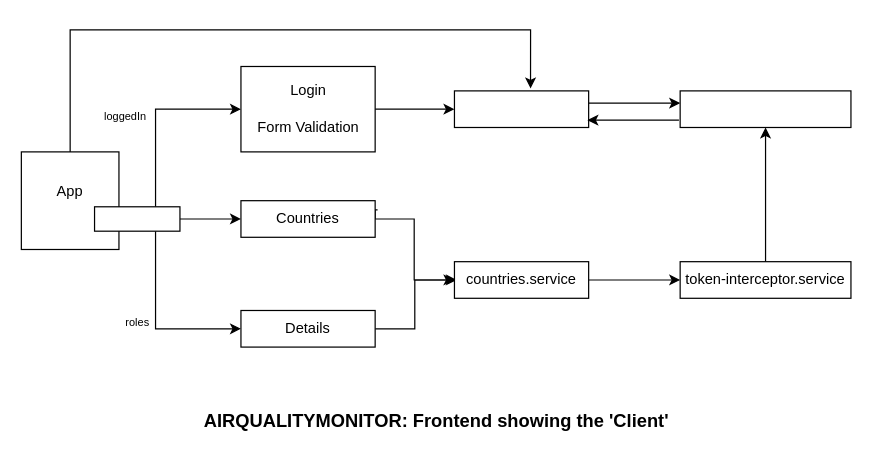
Some shapes in this 872 by 454 pixel diagram are drawn without their labels. Here are the shapes that lost their labels. From the top down, the centre of each, then its label:
pixel 521 108: auth.service
pixel 765 108: Browser local storage
pixel 136 218: Router
